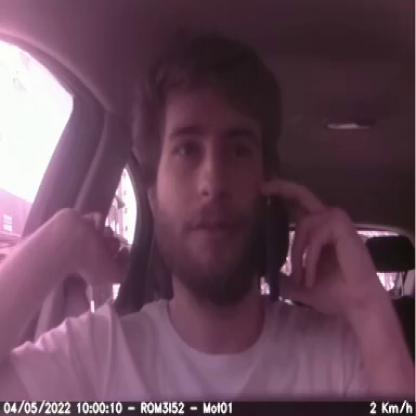phone: (254, 156, 303, 302)
